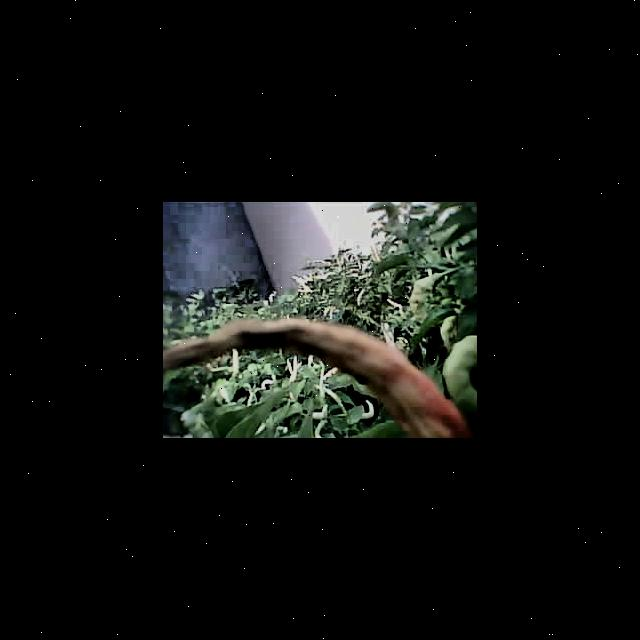Cabai: (195, 324, 449, 437)
